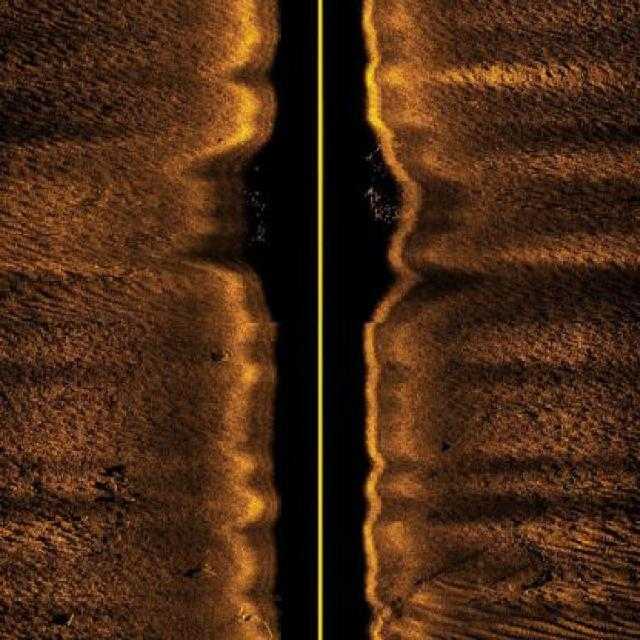mine: (47, 611, 76, 629)
